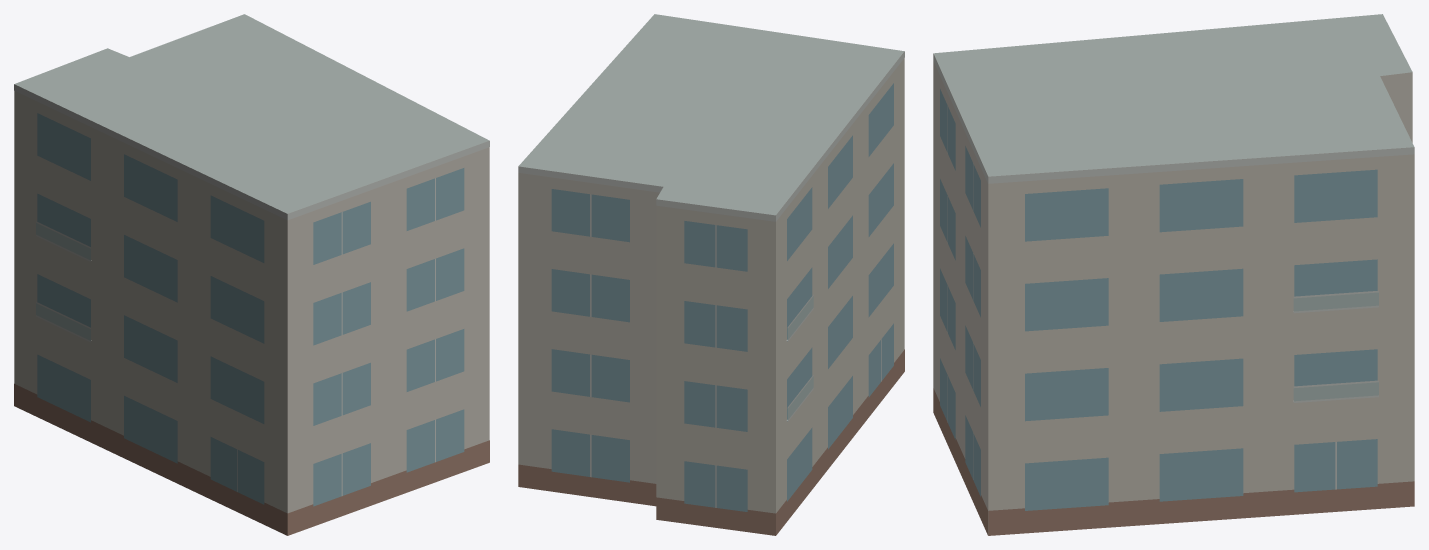
The model's file is survey-upis-32924618.glb.
3 renders of one model, left to right at view 1: azimuth 30°, elevation 25°; view 2: azimuth 150°, elevation 25°; view 3: azimuth 270°, elevation 25°, orthographic. The views are drawn at different scales.
Parts seen in each view (by area): view 1: survey-upis-32924618.tmp; view 2: survey-upis-32924618.tmp; view 3: survey-upis-32924618.tmp.
Boxes of the visible parts, x1=… form: survey-upis-32924618.tmp: x1=14, y1=14, x2=489, y2=535; survey-upis-32924618.tmp: x1=518, y1=14, x2=904, y2=535; survey-upis-32924618.tmp: x1=933, y1=14, x2=1414, y2=535.
Size of the model in its own units: 11.86 by 12.2 by 14.82.
